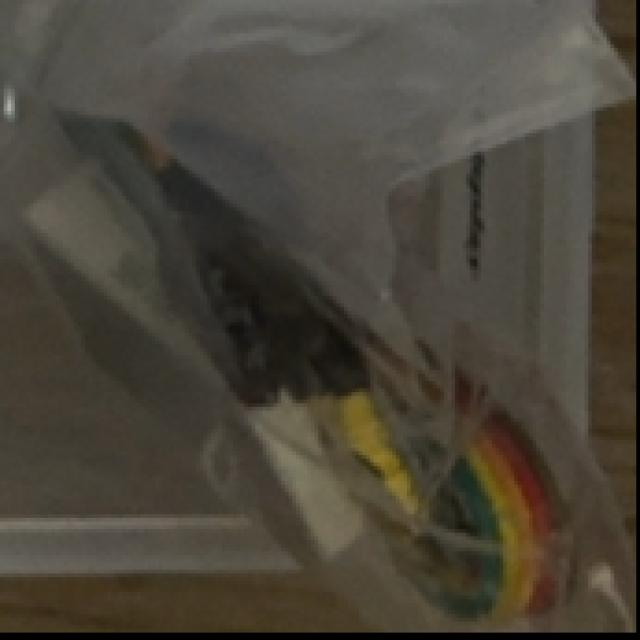Digit Display: (22, 92, 553, 637)
